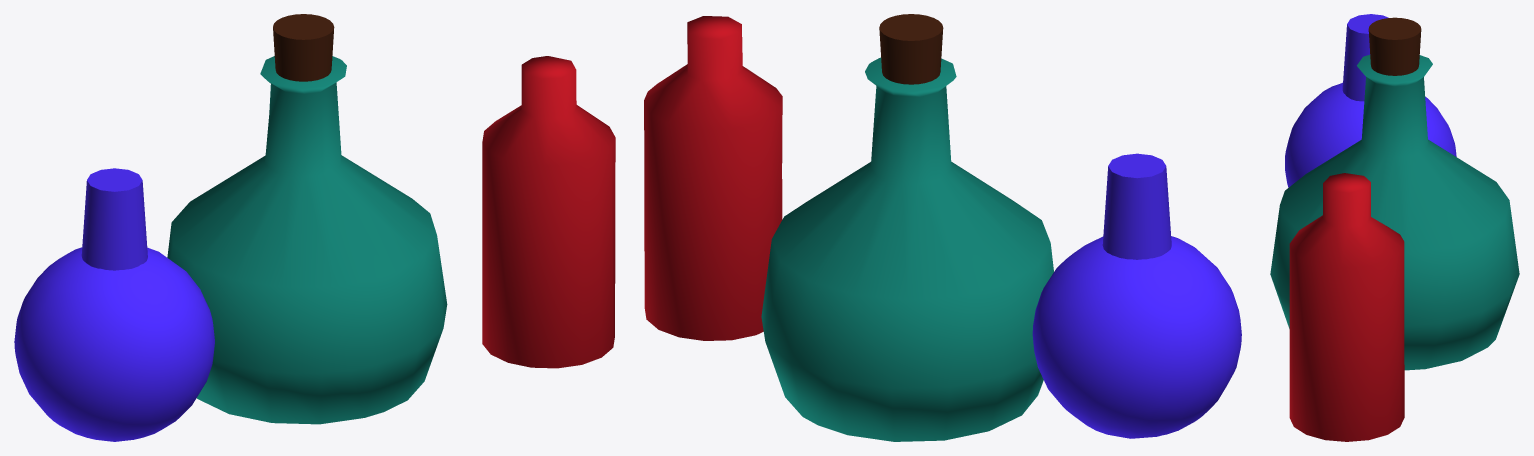
The model's file is potion-bottle-set.glb.
The picture shows the model from 3 angles, left to right: view 1: azimuth 30°, elevation 25°; view 2: azimuth 150°, elevation 25°; view 3: azimuth 270°, elevation 25°; orthographic projection. The views are drawn at different scales.
Visible parts, largest first — view 1: Flask, Vial, Orb Bottle, Orb Neck, Cork; view 2: Flask, Vial, Orb Bottle, Orb Neck, Cork; view 3: Flask, Vial, Orb Bottle, Cork, Orb Neck.
Part boxes in pixels (left/top/right/bottom): Flask: left=167, top=56, right=447, bottom=424; Vial: left=482, top=56, right=615, bottom=368; Orb Bottle: left=14, top=247, right=214, bottom=441; Orb Neck: left=81, top=168, right=147, bottom=270; Cork: left=273, top=14, right=334, bottom=81; Flask: left=761, top=57, right=1053, bottom=441; Vial: left=644, top=16, right=782, bottom=340; Orb Bottle: left=1032, top=236, right=1241, bottom=438; Orb Neck: left=1102, top=153, right=1171, bottom=259; Cork: left=879, top=14, right=943, bottom=84; Flask: left=1270, top=54, right=1519, bottom=370; Vial: left=1289, top=173, right=1404, bottom=441; Orb Bottle: left=1285, top=82, right=1456, bottom=187; Cork: left=1368, top=17, right=1421, bottom=75; Orb Neck: left=1342, top=14, right=1388, bottom=101.
Bounding box in the file's own units: 1.17 × 0.685 × 0.52.
